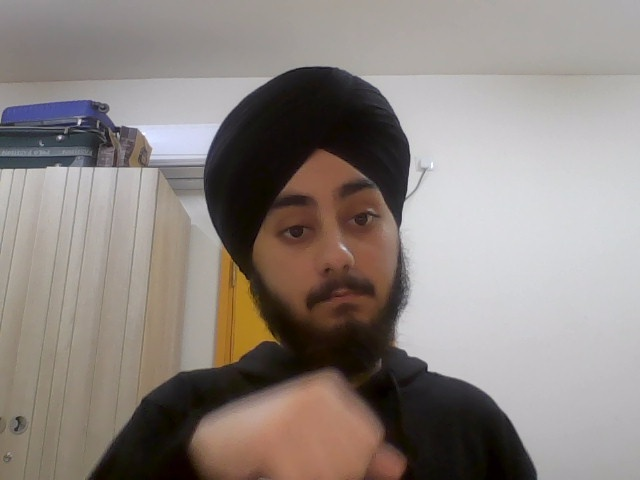Yes: (194, 362, 408, 480)
